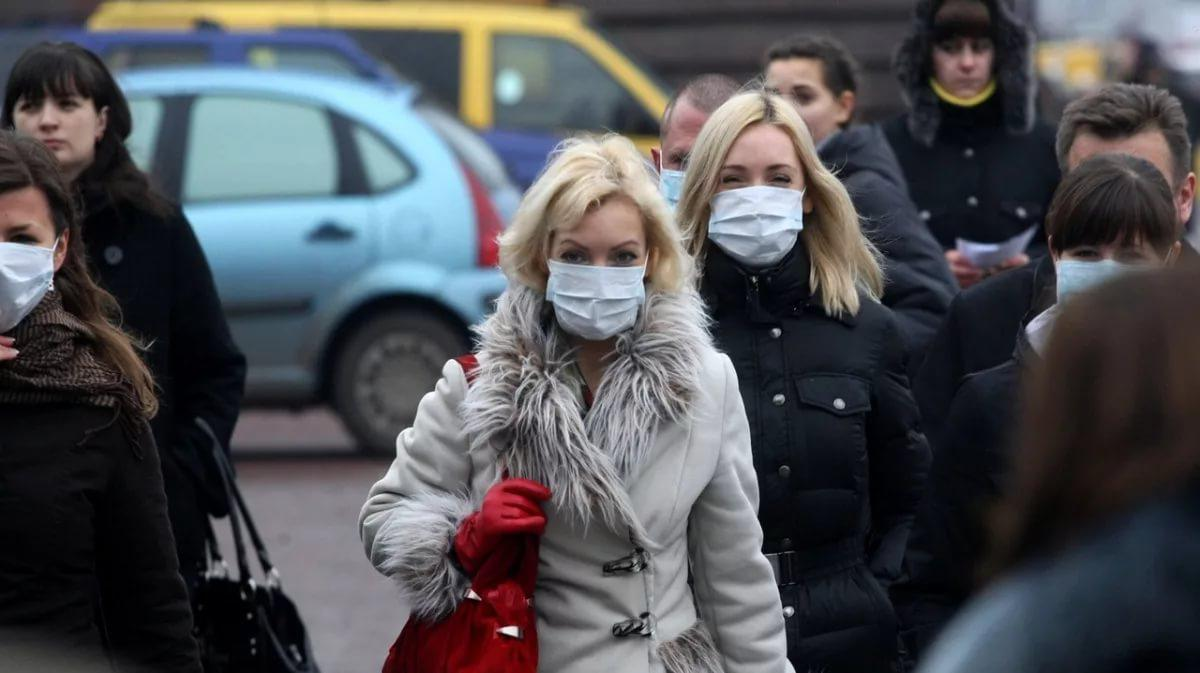mask: (543, 191, 648, 341), (704, 127, 808, 263), (1049, 202, 1172, 306), (1, 179, 63, 327)
none: (17, 72, 98, 163), (766, 57, 834, 140), (933, 17, 1000, 96)
